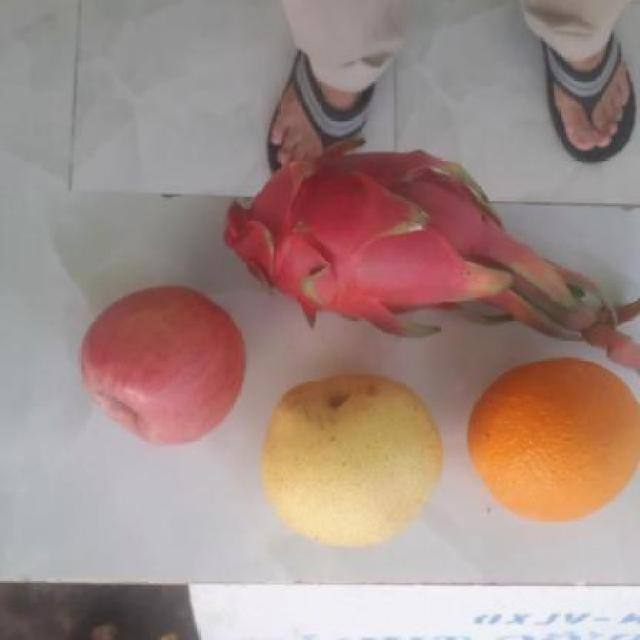apple: (71, 285, 244, 447)
dragon fruit: (208, 154, 500, 334)
oren: (462, 360, 640, 528)
pear: (250, 379, 448, 546)
